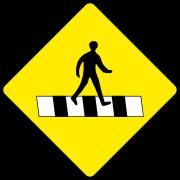Pedestrian Crossing: (9, 7, 171, 171)
